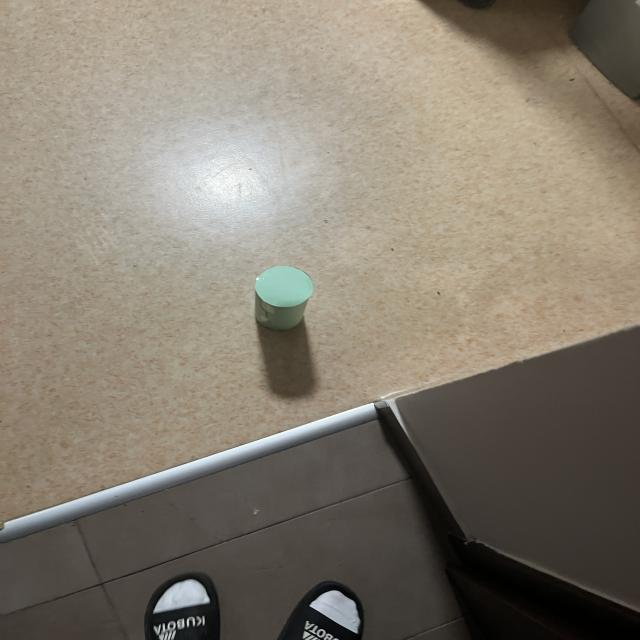meta: (255, 266, 313, 330)
